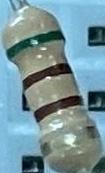Brown: (23, 59, 75, 94), (32, 91, 85, 122)
Green: (4, 28, 64, 59)
Side-Silver: (40, 125, 102, 161)
